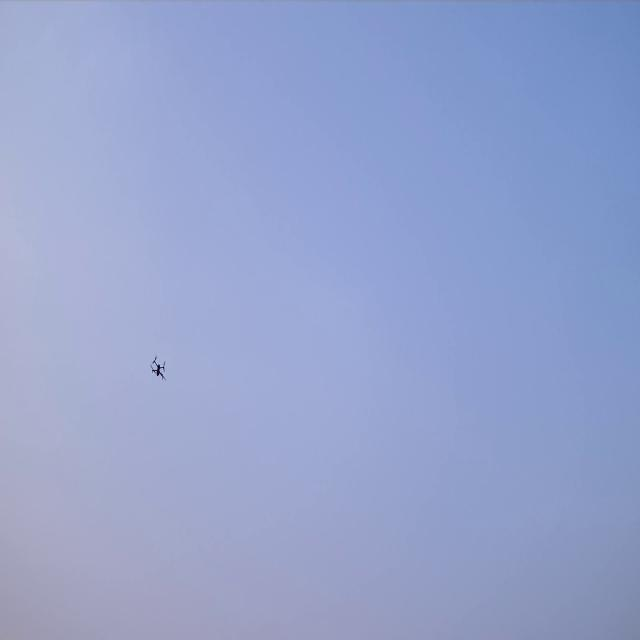UAV: (152, 358, 164, 379)
